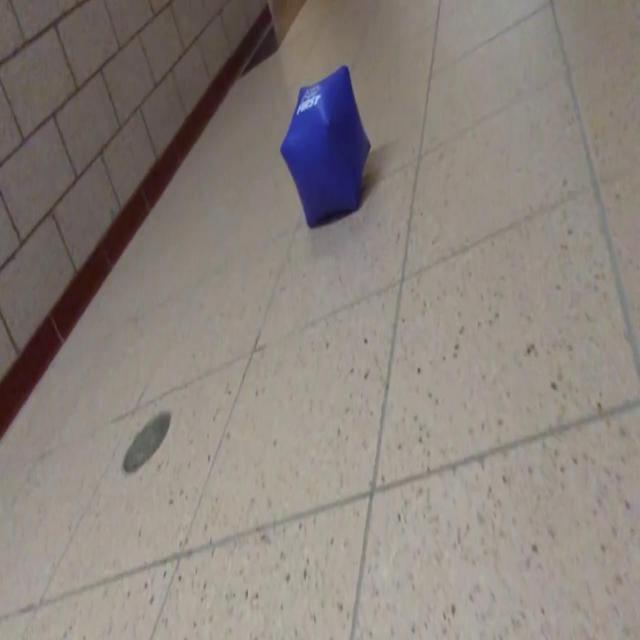frc_cube: (278, 66, 370, 225)
